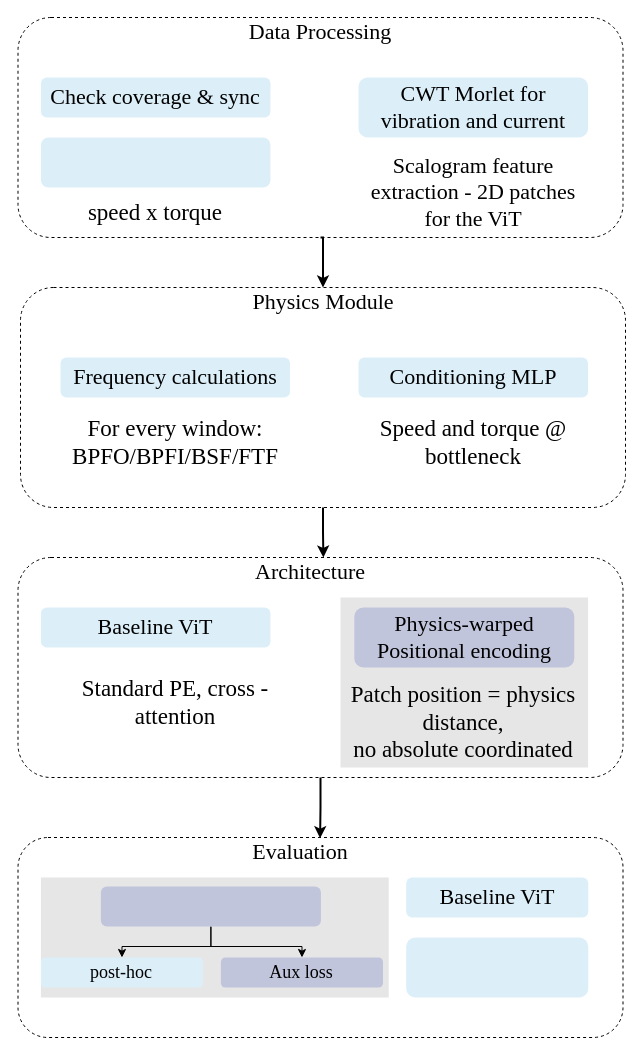
Some shapes in this 643 by 1055 pixel diagram are drawn without their labels. The shapes that lost their labels are listed below. From the top down, each one's centre as x and y in pixels, then its label:
At [155,162]: "Operating coverage binning".
At [210,906]: "ARP metric".
At [497,967]: "Cross-domain experiement".
